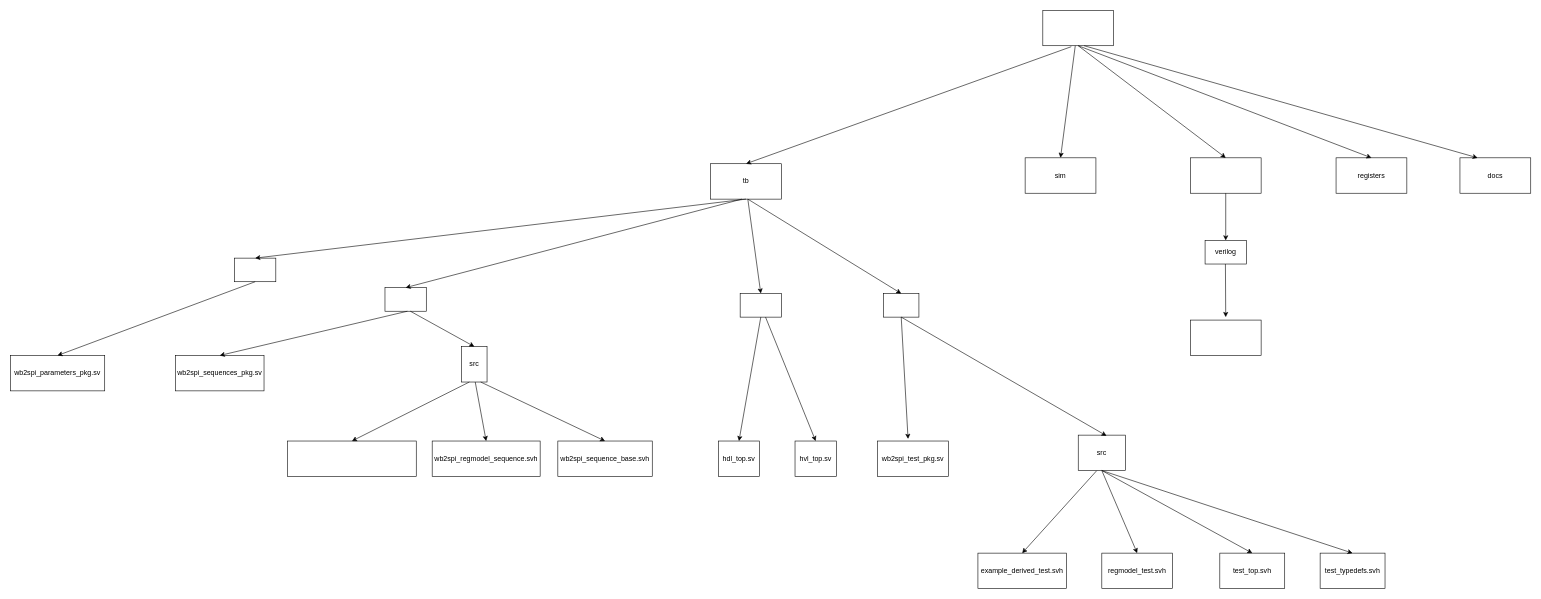
Image size: 1541x599. Some labels were removed from this diagram. Each missing label, with the centre of its shape:
"example_derived_test_sequence.svh" goes at (x=351, y=458).
"parameters" goes at (x=255, y=270).
"rtl" goes at (x=1225, y=175).
"sequences" goes at (x=405, y=299).
"testbench" goes at (x=760, y=305).
"tests" goes at (x=901, y=305).
"wb2spi" goes at (x=1078, y=28).
"wb2spi.v" goes at (x=1225, y=337).
